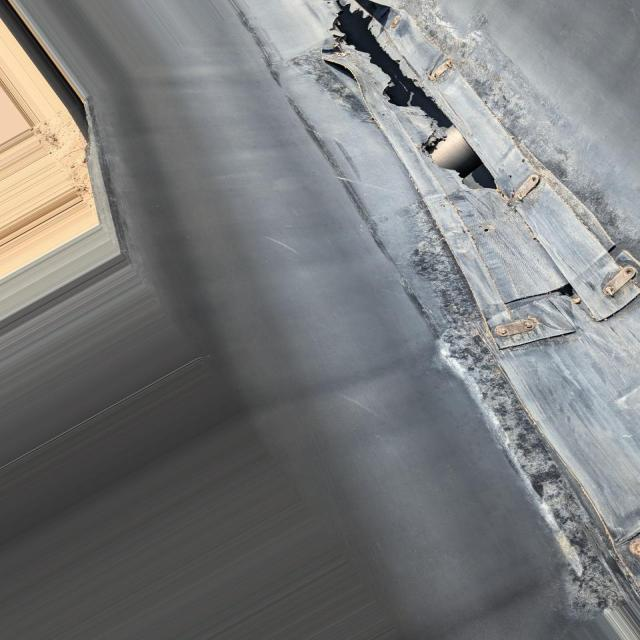Hole: (336, 13, 493, 192)
patch work: (331, 0, 640, 545)
